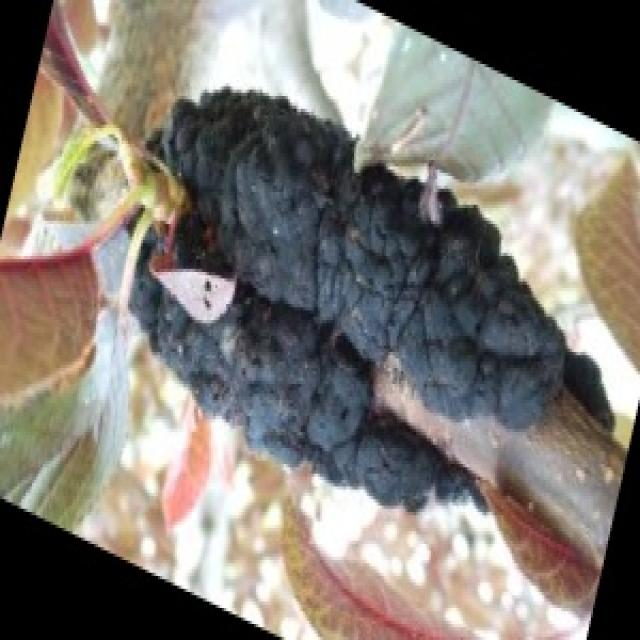Black_knot: (124, 77, 623, 608)
